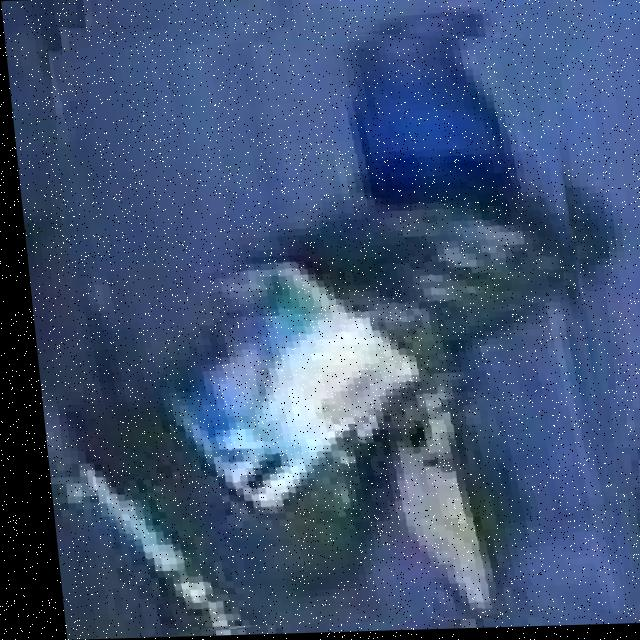plasticbottle: (44, 13, 614, 629)
